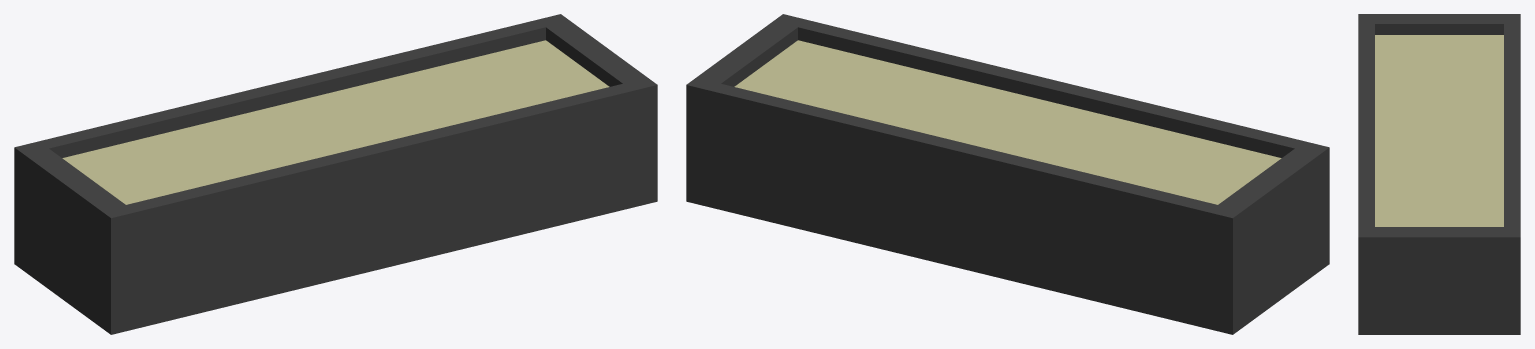
File: Grass_Tub_Black_vc.fbx
3 views of the same model, side by side, from view 1: azimuth 30°, elevation 25°; view 2: azimuth 150°, elevation 25°; view 3: azimuth 270°, elevation 25° (orthographic). The views are drawn at different scales.
Parts seen in each view (by area): view 1: Grass_Tub_Black_vc; view 2: Grass_Tub_Black_vc; view 3: Grass_Tub_Black_vc.
Boxes of the visible parts, <box> form: Grass_Tub_Black_vc: <box>14,14,657,334</box>; Grass_Tub_Black_vc: <box>686,14,1329,334</box>; Grass_Tub_Black_vc: <box>1358,14,1520,334</box>.
Size of the model in its own units: 601 by 123 by 184.
